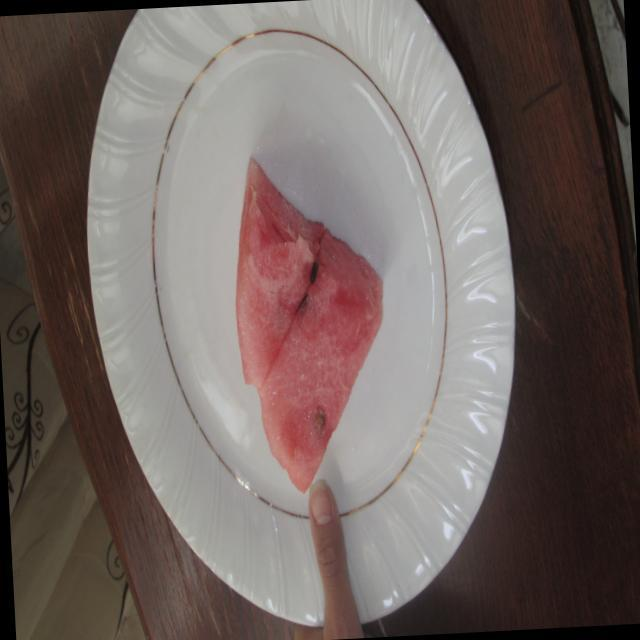Watermelon: (211, 138, 405, 484)
